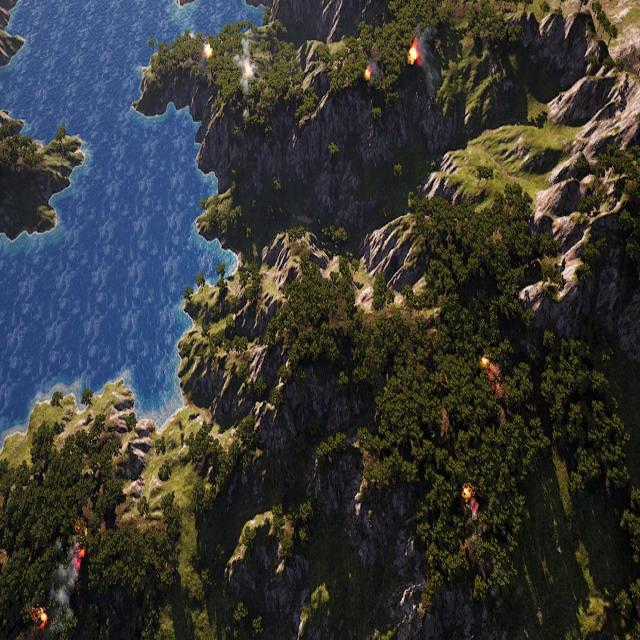fire: (481, 354, 502, 397), (461, 485, 478, 517), (32, 608, 48, 630), (244, 56, 254, 79), (410, 44, 420, 64), (364, 66, 372, 82), (204, 43, 213, 57), (77, 547, 85, 561)
smoke: (48, 534, 84, 612), (414, 23, 440, 96), (232, 37, 254, 120), (367, 53, 379, 83)
